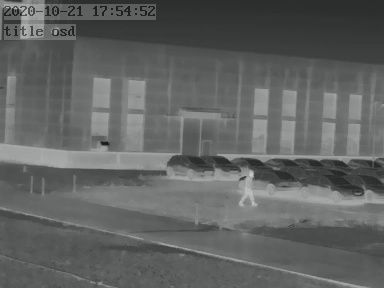person: (237, 171, 257, 206)
vehicle: (241, 168, 303, 193), (304, 173, 358, 200), (165, 153, 213, 178), (204, 153, 243, 177), (349, 173, 383, 200), (231, 154, 270, 172), (262, 155, 298, 170), (347, 156, 380, 170), (317, 156, 347, 170), (295, 156, 325, 169)
